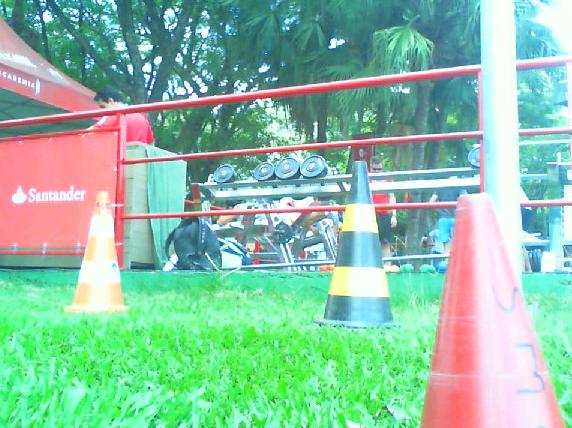0 cone: (420, 193, 566, 428), (311, 159, 398, 329), (63, 191, 131, 314)
